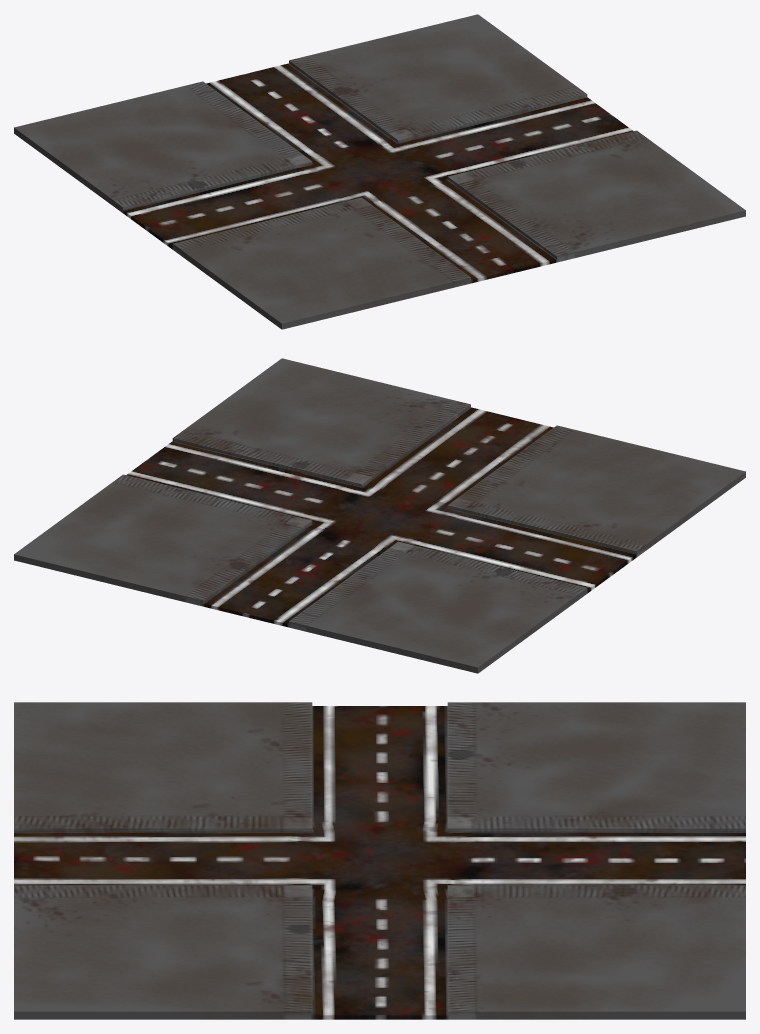
File: Environment_Terrain.fbx
The picture shows the model from 3 angles, top to bottom: view 1: azimuth 30°, elevation 25°; view 2: azimuth 150°, elevation 25°; view 3: azimuth 270°, elevation 25°; orthographic projection. The views are drawn at different scales.
Visible parts, largest first — view 1: Terrain; view 2: Terrain; view 3: Terrain.
Boxes of the visible parts, x1,y1,x2,y2 form: Terrain: [14, 14, 745, 329]; Terrain: [14, 358, 745, 673]; Terrain: [14, 702, 745, 1019].
Size of the model in its own units: 153 by 1.91 by 153.
